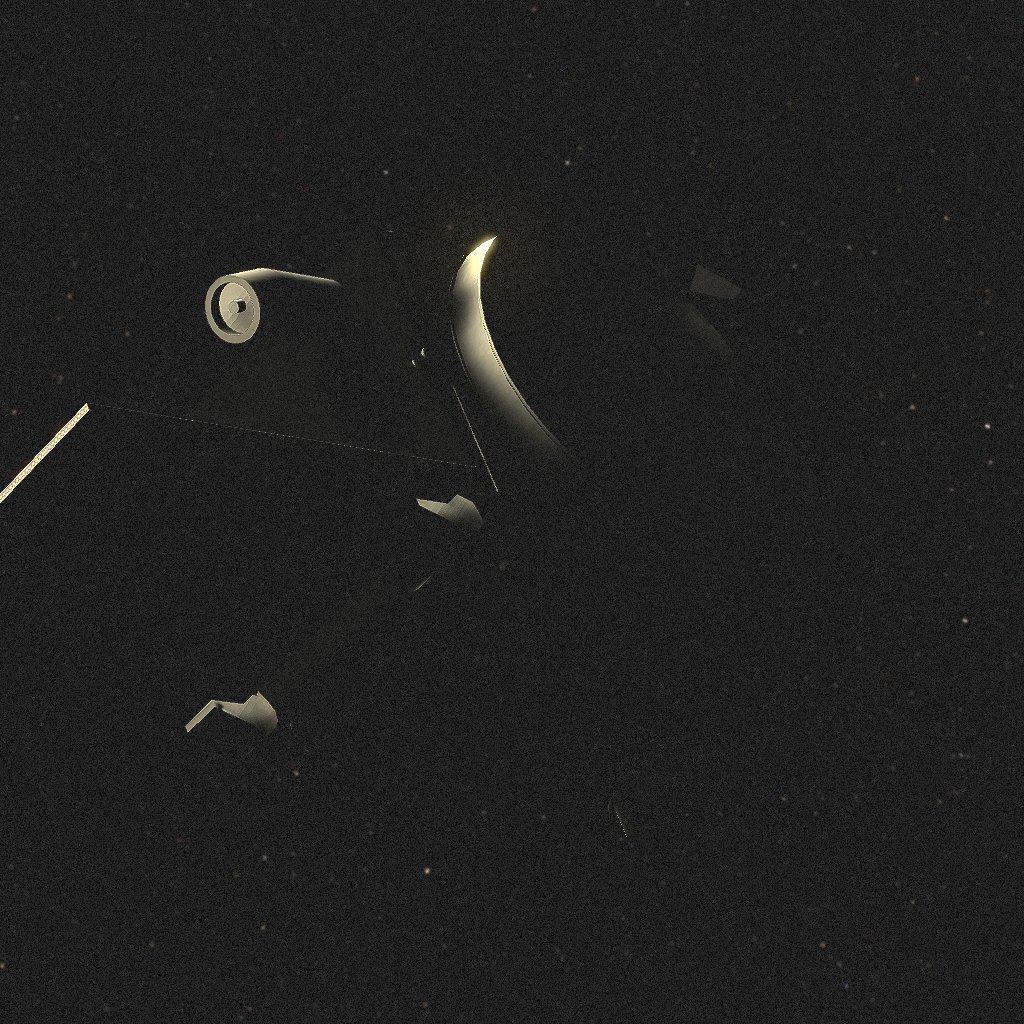proba_3_csc: (13, 203, 888, 867)
